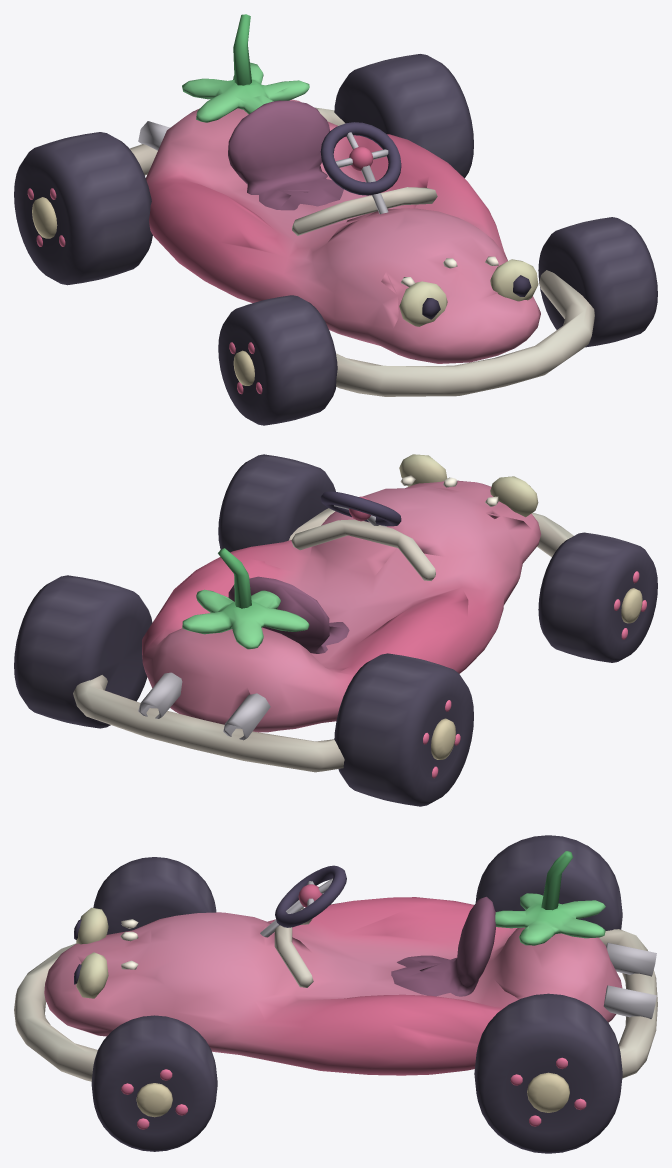
The model's file is veh_kart_berry.glb.
The picture shows the model from 3 angles, top to bottom: view 1: azimuth 30°, elevation 25°; view 2: azimuth 150°, elevation 25°; view 3: azimuth 270°, elevation 25°; orthographic projection.
Parts seen in each view (by area): view 1: SM_veh_kart_berry_body_gloss, SM_veh_kart_berry_wheel_rr, SM_veh_kart_berry_body, SM_veh_kart_berry_wheel_fr, SM_veh_kart_berry_wheel_fl, SM_veh_kart_berry_wheel_rl, SM_veh_kart_berry_steer, SM_veh_kart_berry_wheel_rr_gloss, SM_veh_kart_berry_steer_gloss, SM_veh_kart_berry_wheel_fr_gloss; view 2: SM_veh_kart_berry_body_gloss, SM_veh_kart_berry_wheel_rr, SM_veh_kart_berry_wheel_rl, SM_veh_kart_berry_wheel_fr, SM_veh_kart_berry_body, SM_veh_kart_berry_wheel_fl, SM_veh_kart_berry_steer, SM_veh_kart_berry_wheel_rr_gloss, SM_veh_kart_berry_wheel_fr_gloss; view 3: SM_veh_kart_berry_body_gloss, SM_veh_kart_berry_wheel_rl, SM_veh_kart_berry_wheel_fl, SM_veh_kart_berry_body, SM_veh_kart_berry_wheel_rr, SM_veh_kart_berry_wheel_fr, SM_veh_kart_berry_steer, SM_veh_kart_berry_wheel_rl_gloss, SM_veh_kart_berry_wheel_fl_gloss, SM_veh_kart_berry_steer_gloss.
Boxes of the visible parts, x1=… form: SM_veh_kart_berry_body_gloss: x1=130, y1=99, x2=594, y2=396; SM_veh_kart_berry_wheel_rr: x1=14, y1=132, x2=152, y2=285; SM_veh_kart_berry_body: x1=182, y1=14, x2=498, y2=286; SM_veh_kart_berry_wheel_fr: x1=218, y1=295, x2=337, y2=425; SM_veh_kart_berry_wheel_fl: x1=538, y1=217, x2=657, y2=347; SM_veh_kart_berry_wheel_rl: x1=334, y1=54, x2=473, y2=178; SM_veh_kart_berry_steer: x1=320, y1=122, x2=401, y2=195; SM_veh_kart_berry_wheel_rr_gloss: x1=32, y1=197, x2=57, y2=238; SM_veh_kart_berry_steer_gloss: x1=335, y1=132, x2=388, y2=170; SM_veh_kart_berry_wheel_fr_gloss: x1=233, y1=350, x2=254, y2=385; SM_veh_kart_berry_body_gloss: x1=73, y1=454, x2=573, y2=772; SM_veh_kart_berry_wheel_rr: x1=334, y1=653, x2=473, y2=806; SM_veh_kart_berry_wheel_rl: x1=14, y1=575, x2=152, y2=728; SM_veh_kart_berry_wheel_fr: x1=538, y1=532, x2=657, y2=662; SM_veh_kart_berry_body: x1=182, y1=475, x2=498, y2=653; SM_veh_kart_berry_wheel_fl: x1=218, y1=454, x2=335, y2=552; SM_veh_kart_berry_steer: x1=320, y1=491, x2=401, y2=526; SM_veh_kart_berry_wheel_rr_gloss: x1=431, y1=718, x2=455, y2=759; SM_veh_kart_berry_wheel_fr_gloss: x1=621, y1=588, x2=642, y2=623; SM_veh_kart_berry_body_gloss: x1=14, y1=897, x2=657, y2=1081; SM_veh_kart_berry_wheel_rl: x1=474, y1=993, x2=622, y2=1153; SM_veh_kart_berry_wheel_fl: x1=91, y1=1015, x2=217, y2=1151; SM_veh_kart_berry_body: x1=120, y1=851, x2=605, y2=996; SM_veh_kart_berry_wheel_rr: x1=475, y1=835, x2=622, y2=930; SM_veh_kart_berry_wheel_fr: x1=93, y1=857, x2=216, y2=934; SM_veh_kart_berry_steer: x1=275, y1=865, x2=346, y2=927; SM_veh_kart_berry_wheel_rl_gloss: x1=527, y1=1072, x2=569, y2=1112; SM_veh_kart_berry_wheel_fl_gloss: x1=136, y1=1083, x2=172, y2=1117; SM_veh_kart_berry_steer_gloss: x1=298, y1=878, x2=332, y2=907.
Size of the model in its own units: 1.54 by 0.7617 by 2.06.
